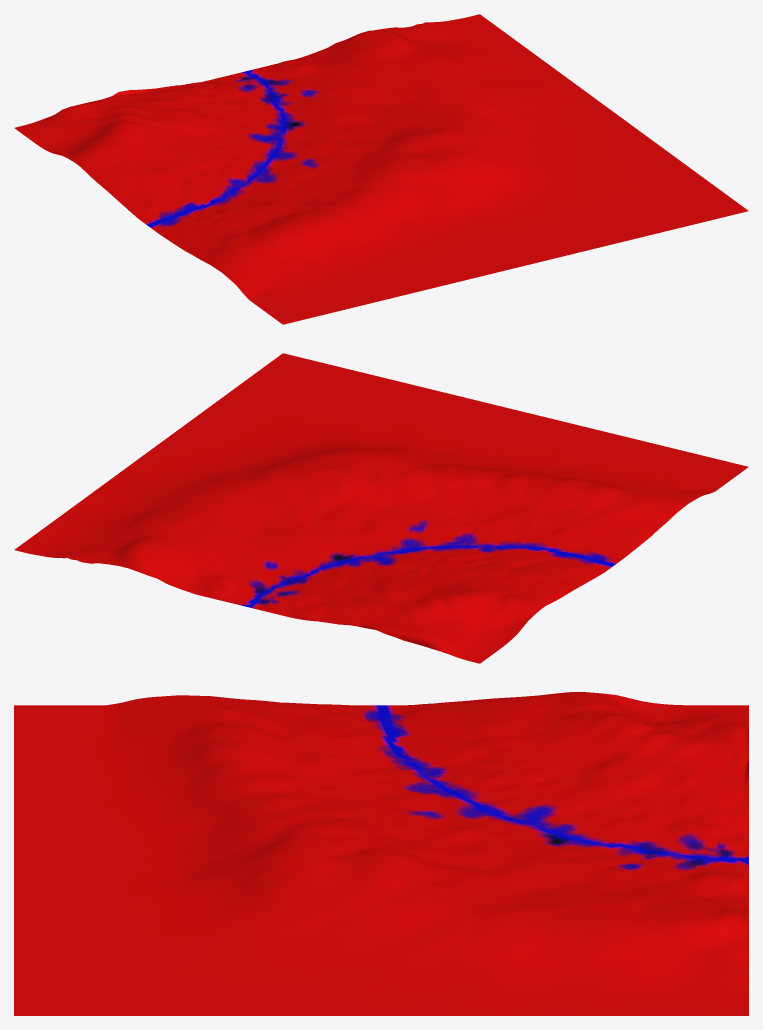
File: Terrain_LoopForest_Distance_B_01.fbx
3 renders of one model, top to bottom at view 1: azimuth 30°, elevation 25°; view 2: azimuth 150°, elevation 25°; view 3: azimuth 270°, elevation 25°, orthographic. The views are drawn at different scales.
Parts seen in each view (by area): view 1: Terrain_LoopForest_Distance_B_01; view 2: Terrain_LoopForest_Distance_B_01; view 3: Terrain_LoopForest_Distance_B_01.
Boxes of the visible parts, box(x1,y1,x2,y2) form: Terrain_LoopForest_Distance_B_01: box(14, 14, 748, 324); Terrain_LoopForest_Distance_B_01: box(14, 353, 748, 663); Terrain_LoopForest_Distance_B_01: box(14, 692, 748, 1015).
Size of the model in its own units: 30000 by 1397 by 30000.
